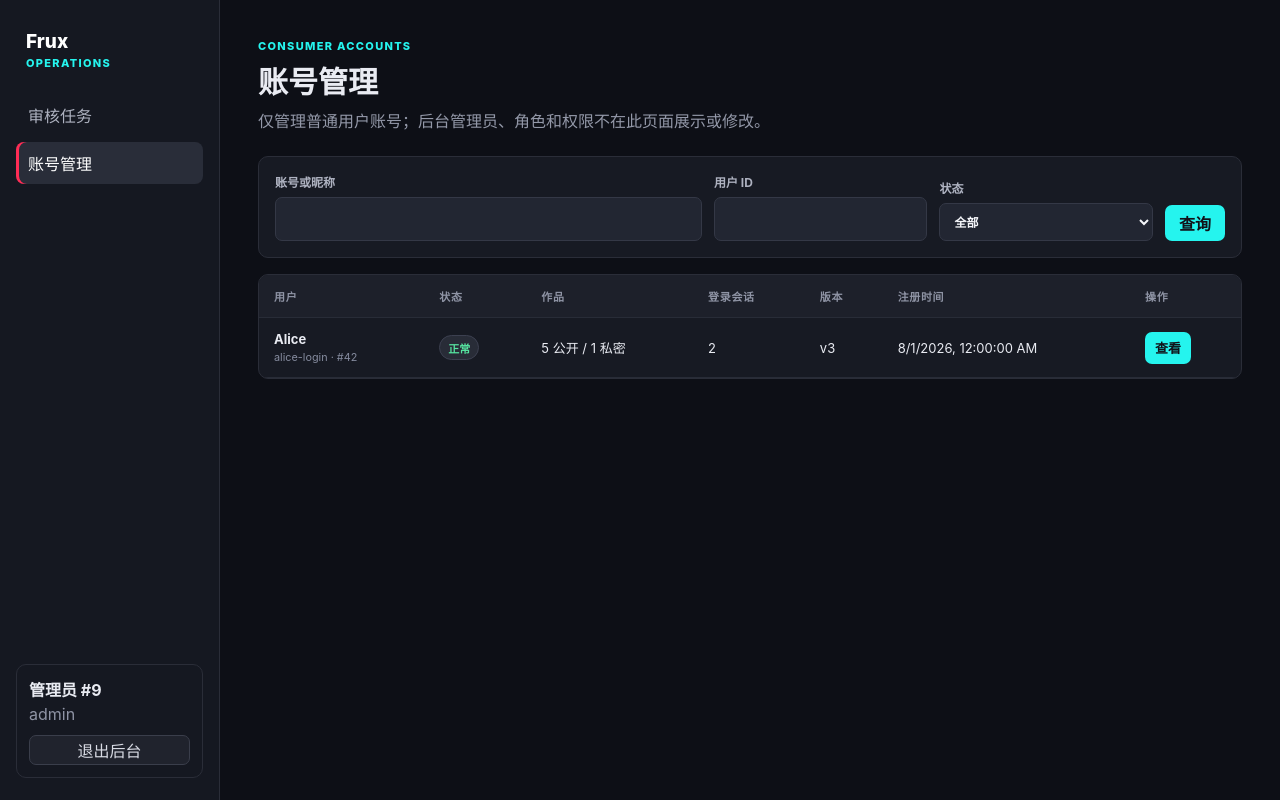
Test: admin content operations workspace › freezes an ordinary account with versioned audited confirmation
Click the button "查看".
click(1168, 348)  # box x1=1145 y1=332 x2=1191 y2=364
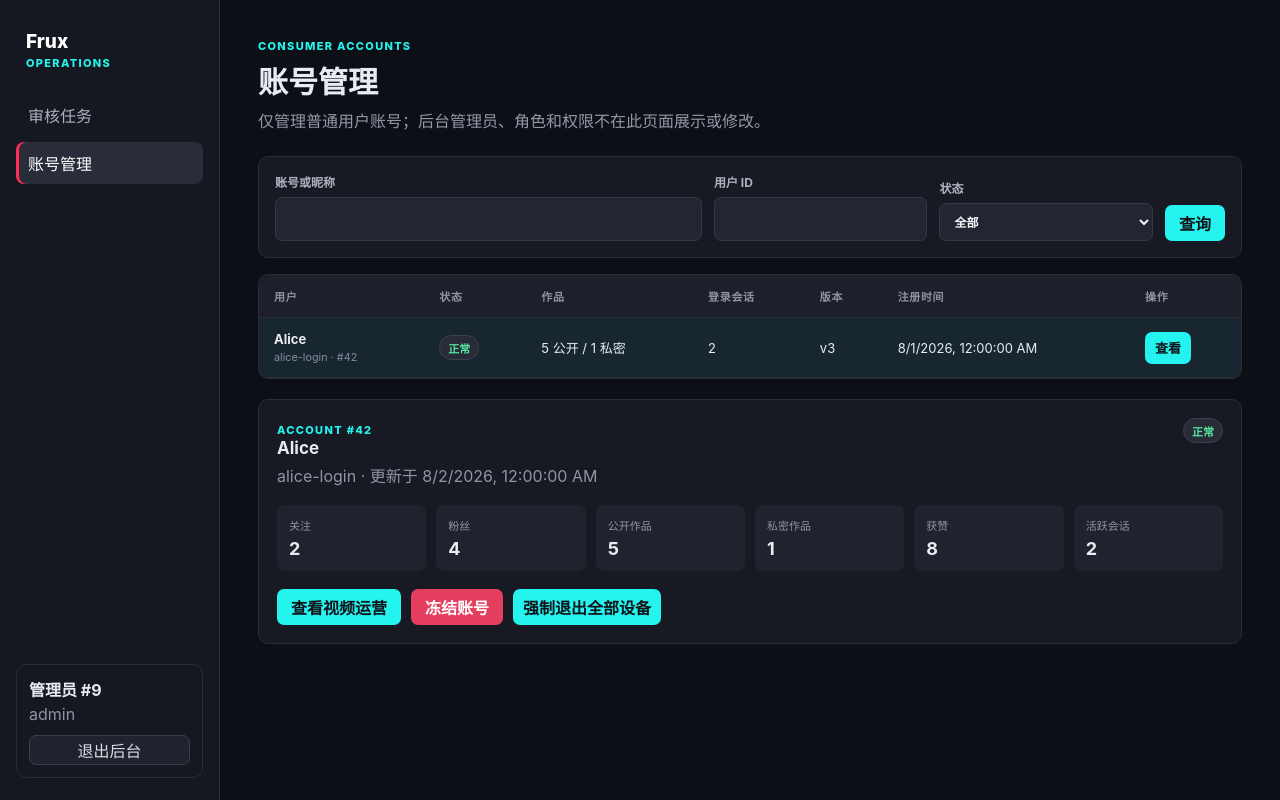
Click the button "冻结账号".
click(457, 607)  # box x1=411 y1=589 x2=503 y2=625
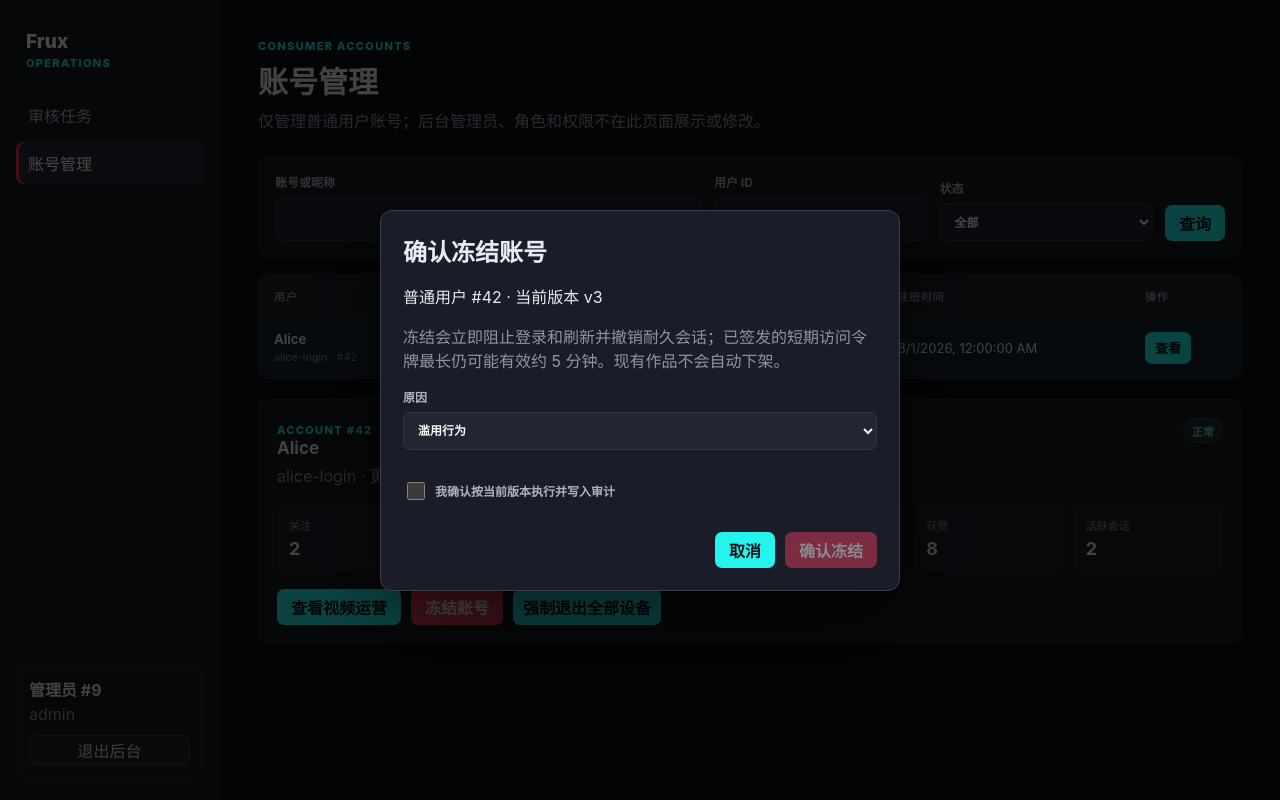
Check: the text "现有作品不会自动下架" is shown, box x1=403 y1=326 x2=867 y2=370
Click the checkbox labelled "我确认按当前版本执行并写入审计".
click(416, 490)  # box x1=407 y1=468 x2=425 y2=512
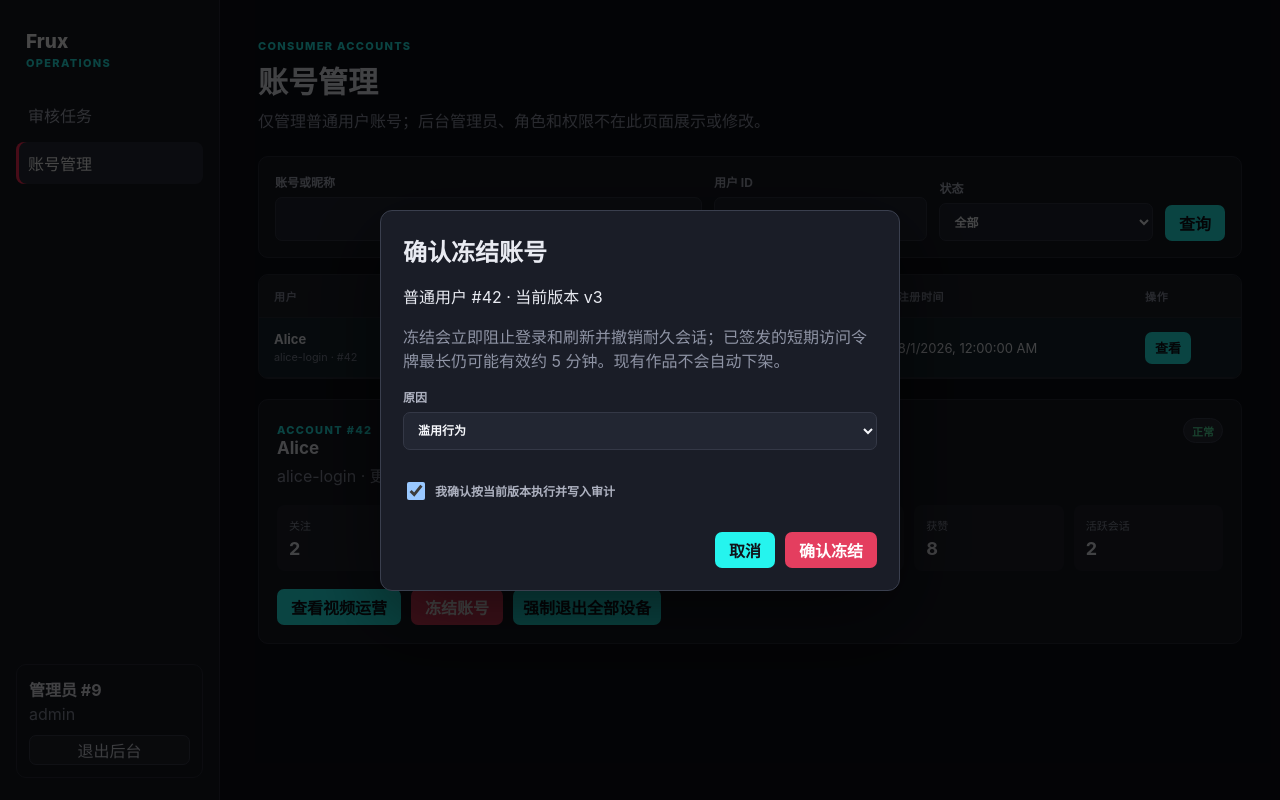
Click the button "确认冻结".
click(831, 550)  # box x1=785 y1=532 x2=877 y2=568
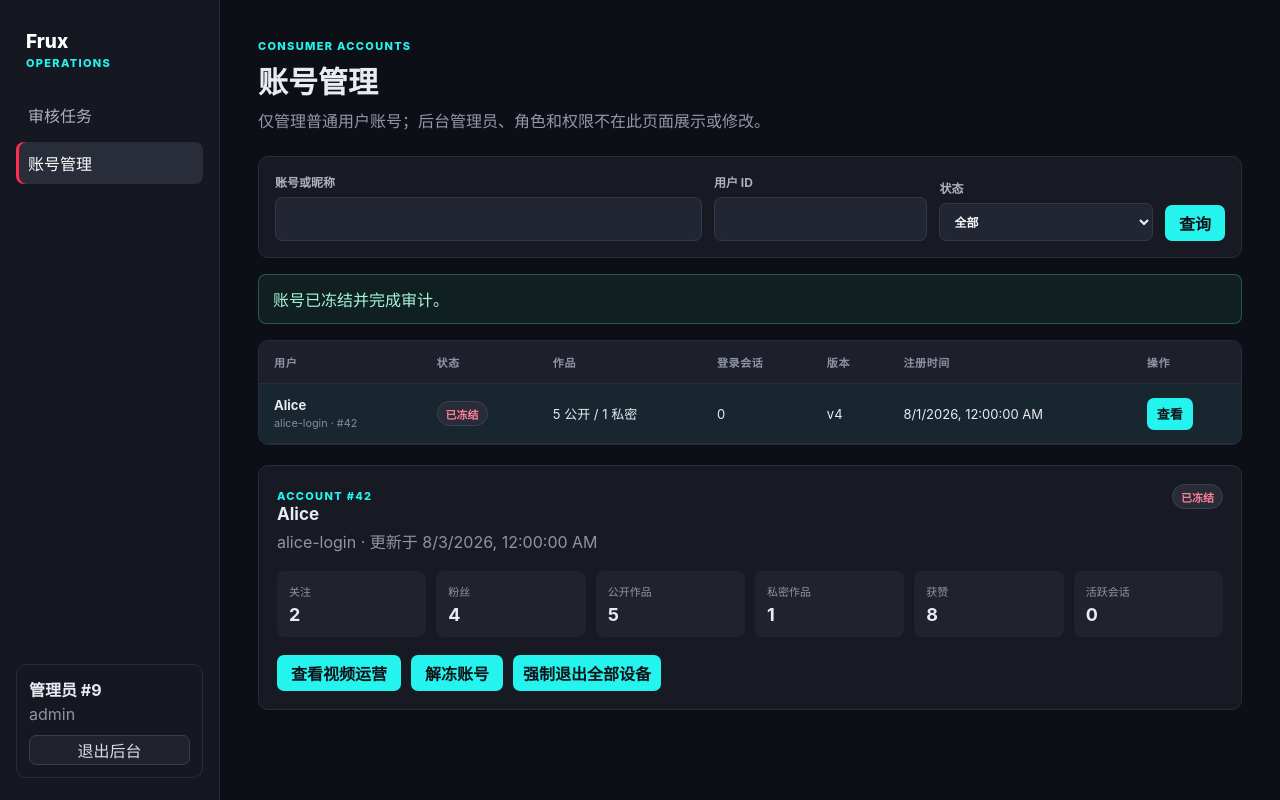
Check: the text "账号已冻结并完成审计" is shown, box x1=273 y1=290 x2=449 y2=310
Check: the text "已冻结" is shown, box x1=258 y1=274 x2=1242 y2=324
